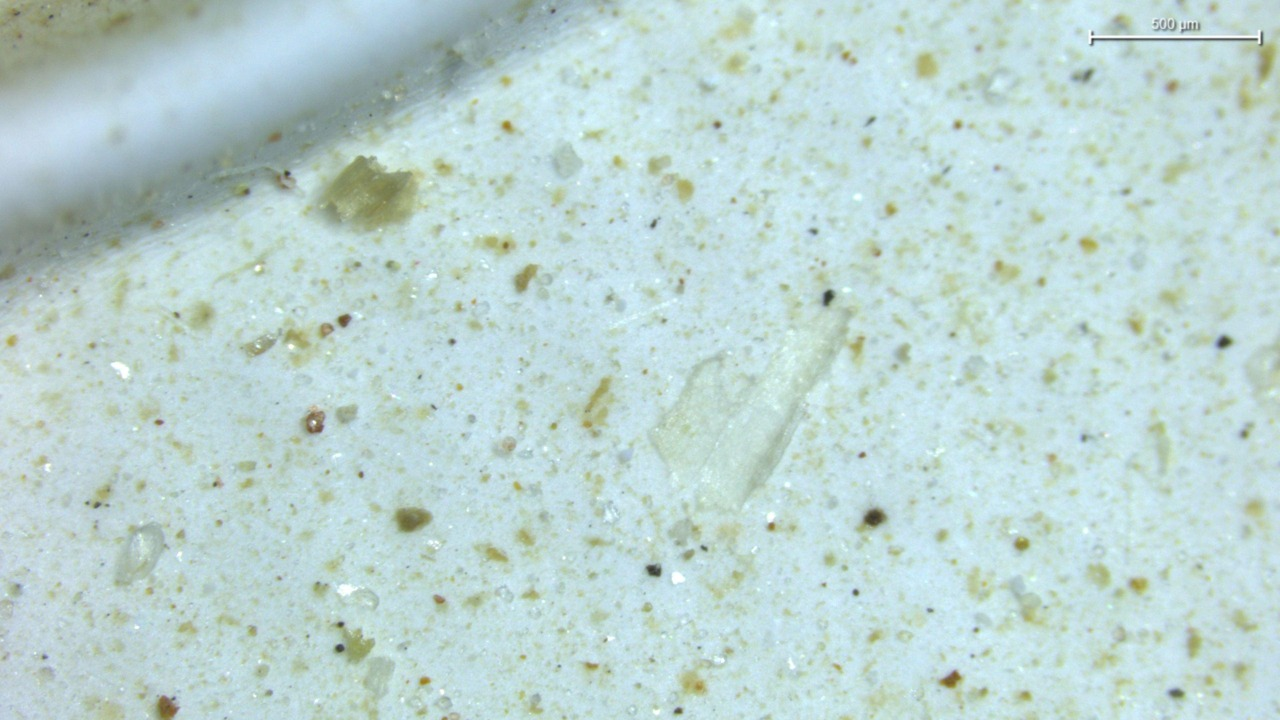microplastic_fragment: (650, 308, 849, 508), (318, 156, 418, 229), (116, 523, 164, 584), (552, 143, 582, 178)
